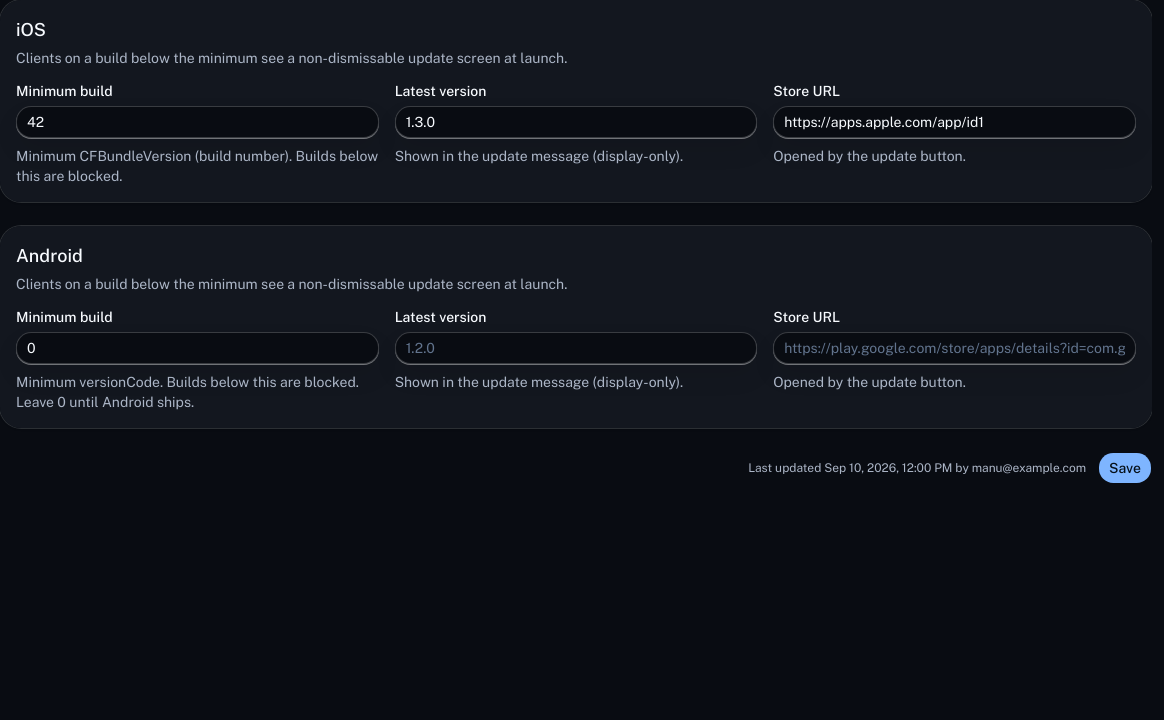
Test: AppVersionForm — the display-only fields › refuses a version that is not dotted digits
Replace the text in the 1st field labelled "Latest version" with "v1.3-beta" at x=576, y=122, box [395,106,757,138]
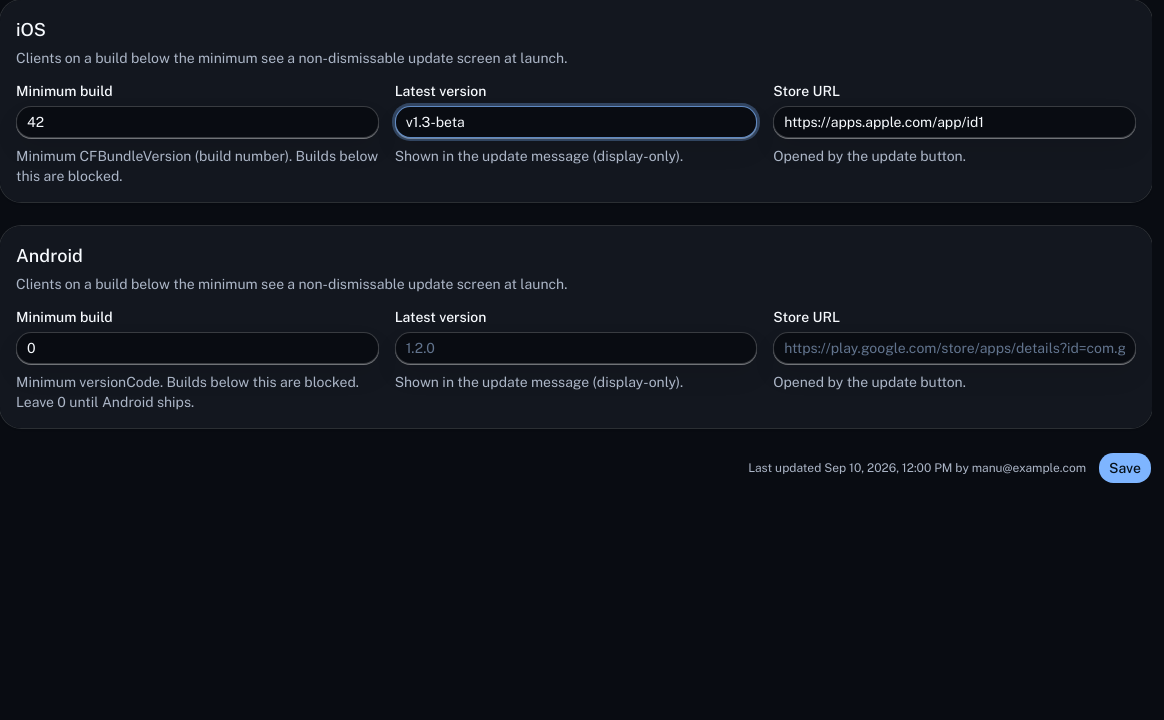
Click the button "Save" at x=1125, y=468, box [1098,452,1152,484]
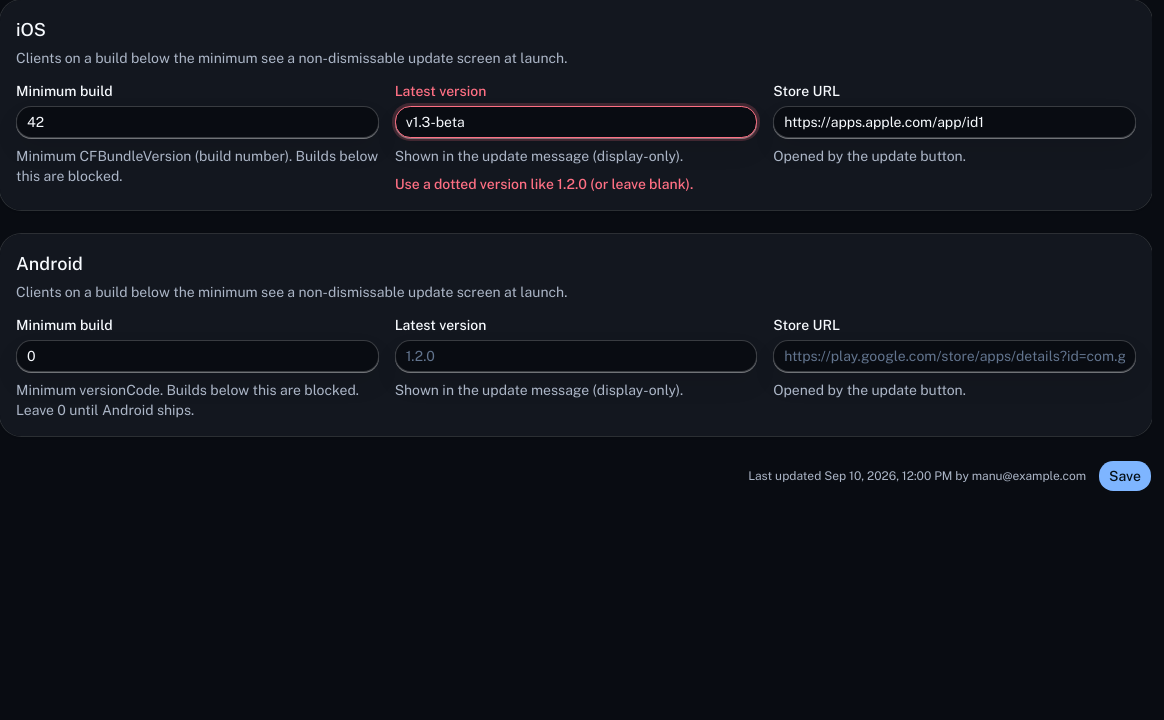
Result: the text "Use a dotted version like 1.2.0 (or leave blank)." is shown at [395,176,693,192]
